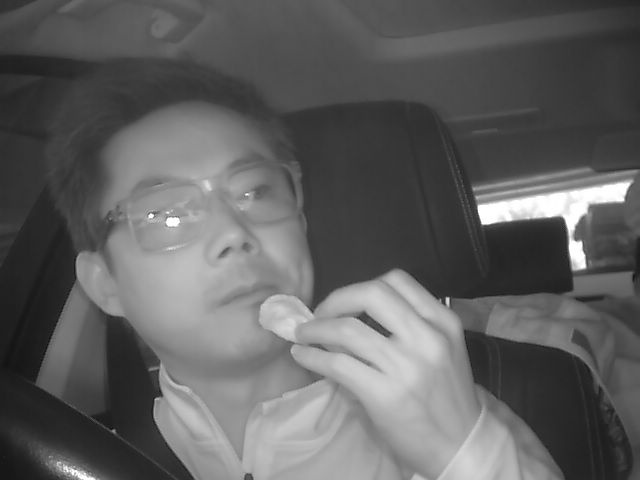hand: (301, 268, 474, 465)
